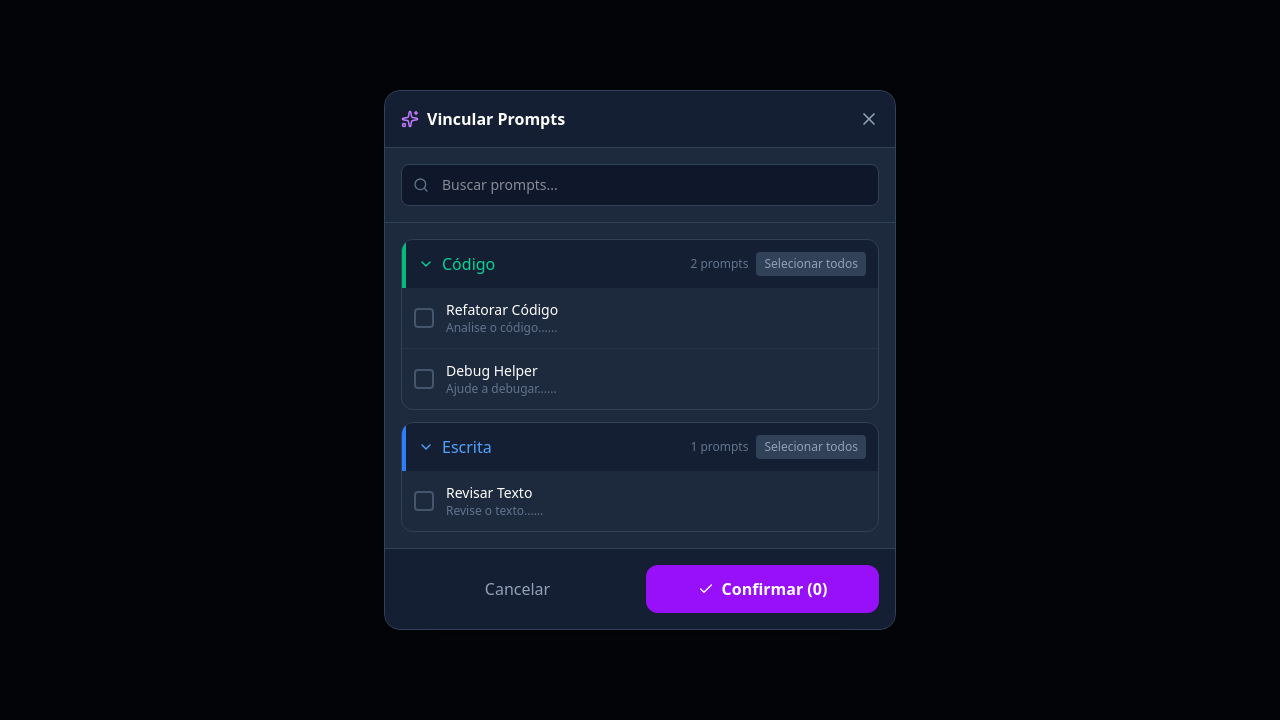
Test: MultiPromptSelector › Search functionality › filters prompts by search query
In the field with placeholder "Buscar prompts...": (640, 185) [401,164,879,206], type "Refatorar"
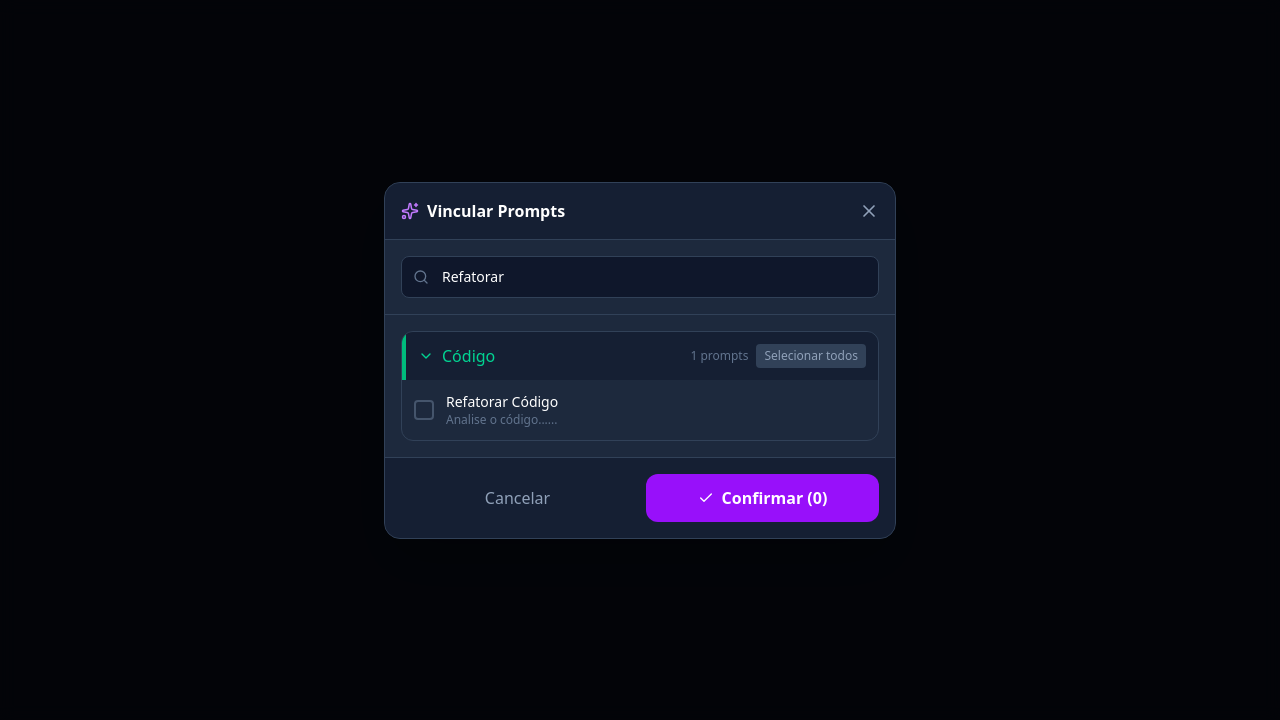
Expected: the text "Refatorar Código" is shown, [446,392,558,410]
Expected: the text "Debug Helper" is gone
Expected: the text "Revisar Texto" is gone
